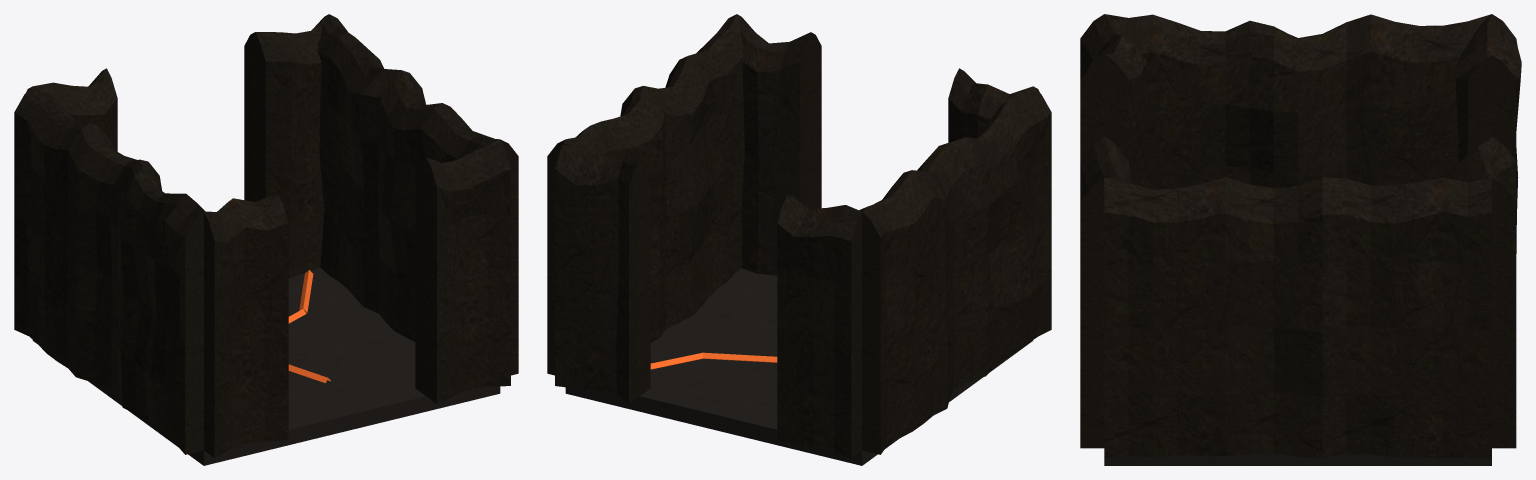
Rendered from cave_room_01_lava.glb.
The picture shows the model from 3 angles, left to right: view 1: azimuth 30°, elevation 25°; view 2: azimuth 150°, elevation 25°; view 3: azimuth 270°, elevation 25°; orthographic projection. The views are drawn at different scales.
Visible parts, largest first — view 1: cave_room_01_lava; view 2: cave_room_01_lava; view 3: cave_room_01_lava.
Boxes of the visible parts, x1,y1,x2,y2 form: cave_room_01_lava: (14,14,518,465); cave_room_01_lava: (547,14,1051,465); cave_room_01_lava: (1080,14,1521,465).
Size of the model in its own units: 4.58 by 3.3 by 4.56.
Materials: 3 (3 with a texture image).
